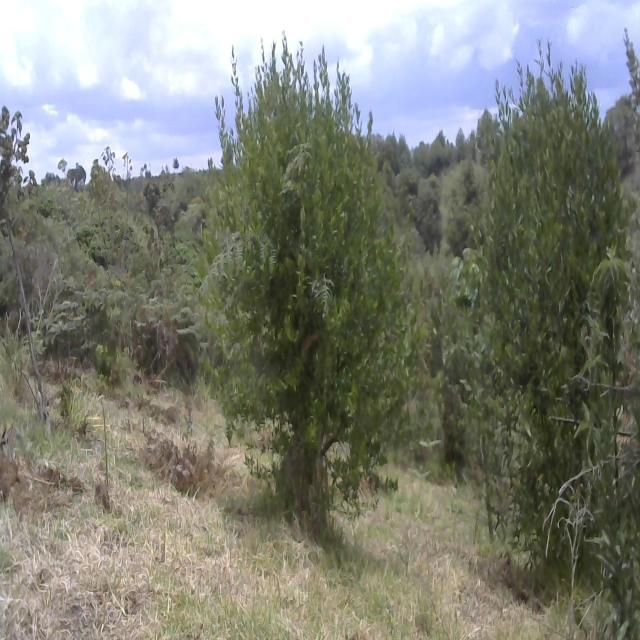Olea europea -africana-: (217, 18, 416, 551), (491, 19, 627, 580)
